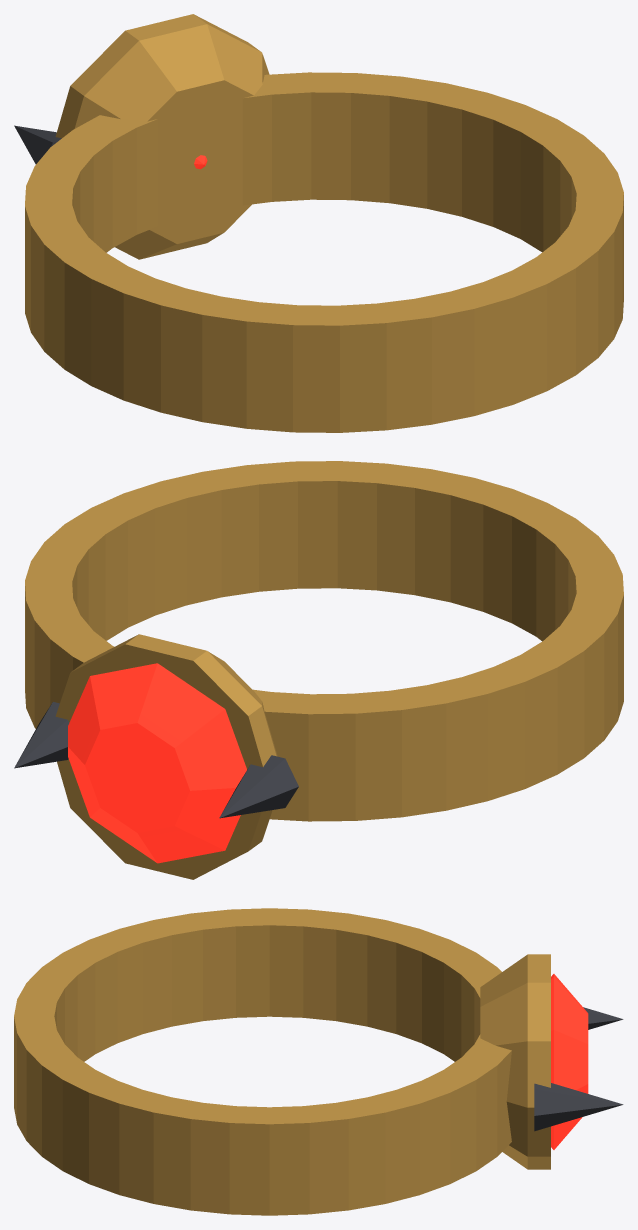
Rendered from ring_ember.glb.
The picture shows the model from 3 angles, top to bottom: view 1: azimuth 30°, elevation 25°; view 2: azimuth 150°, elevation 25°; view 3: azimuth 270°, elevation 25°; orthographic projection. The views are drawn at different scales.
Parts seen in each view (by area): view 1: Ring_Ember_Brass, Ring_Ember_Darksteel; view 2: Ring_Ember_Brass, Ring_Ember_Gem_fire, Ring_Ember_Darksteel; view 3: Ring_Ember_Brass, Ring_Ember_Gem_fire, Ring_Ember_Darksteel.
Part boxes in pixels (x1,y1,x2,y2): Ring_Ember_Brass: (25, 14, 623, 432); Ring_Ember_Darksteel: (14, 125, 61, 164); Ring_Ember_Brass: (25, 461, 623, 879); Ring_Ember_Gem_fire: (68, 663, 246, 863); Ring_Ember_Darksteel: (14, 702, 298, 818); Ring_Ember_Brass: (14, 908, 550, 1215); Ring_Ember_Gem_fire: (551, 974, 588, 1149); Ring_Ember_Darksteel: (534, 1007, 623, 1131).
Size of the model in its own units: 0.0228 by 0.00919 by 0.0272.
